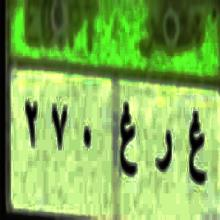0: (81, 111, 96, 167)
2: (19, 97, 42, 161)
7: (48, 103, 72, 159)
ghayn: (186, 103, 207, 197), (116, 101, 138, 185)
raa: (155, 132, 176, 185)
